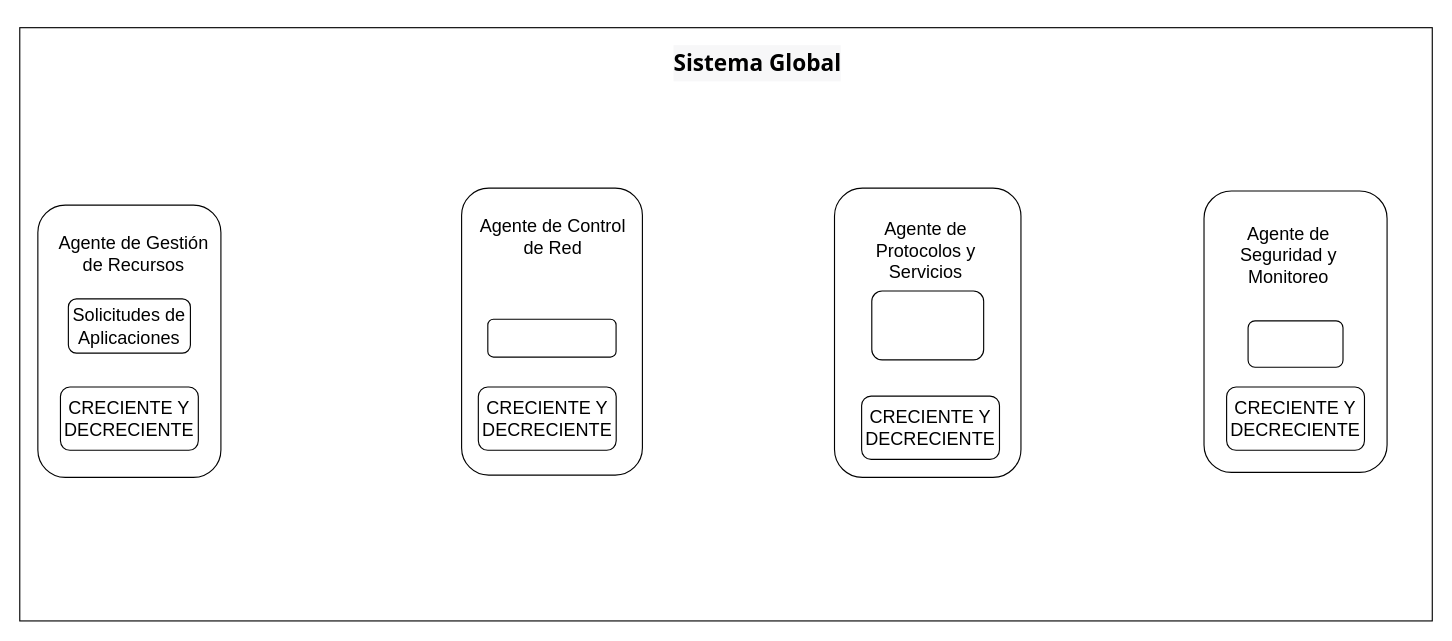
Image size: 1452x641. Some labels were removed from this diagram. Here are the shapes that lost their labels. From the top down, the centre of each, then its label:
At (x=551, y=337): "Tráfico de RED".
At (x=927, y=325): "Solicitudes de Protocolos".
At (x=1295, y=343): "Alertas de Seguridad".
